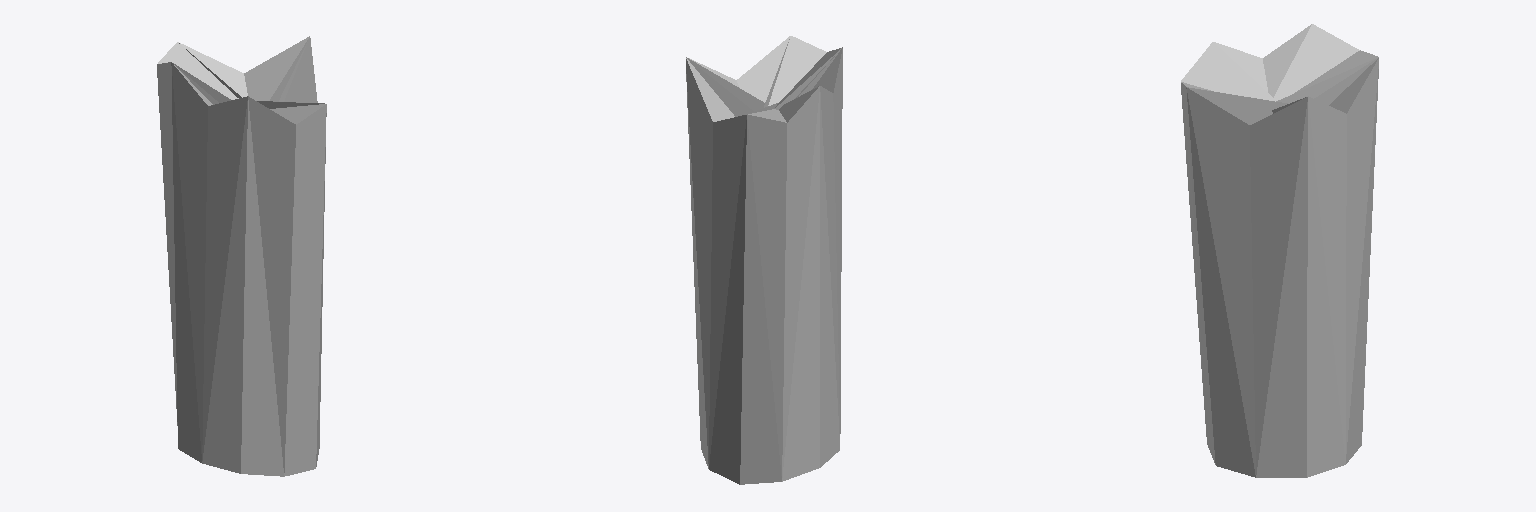
The model's file is TreeTrunk3.obj.
3 renders of one model, left to right at view 1: azimuth 30°, elevation 25°; view 2: azimuth 150°, elevation 25°; view 3: azimuth 270°, elevation 25°, orthographic.
Parts seen in each view (by area): view 1: Tree; view 2: Tree; view 3: Tree.
Boxes of the visible parts, <box> form: Tree: <box>157,36,326,476</box>; Tree: <box>686,36,842,484</box>; Tree: <box>1181,24,1378,477</box>.
Size of the model in its own units: 0.3345 by 0.9302 by 0.4217.